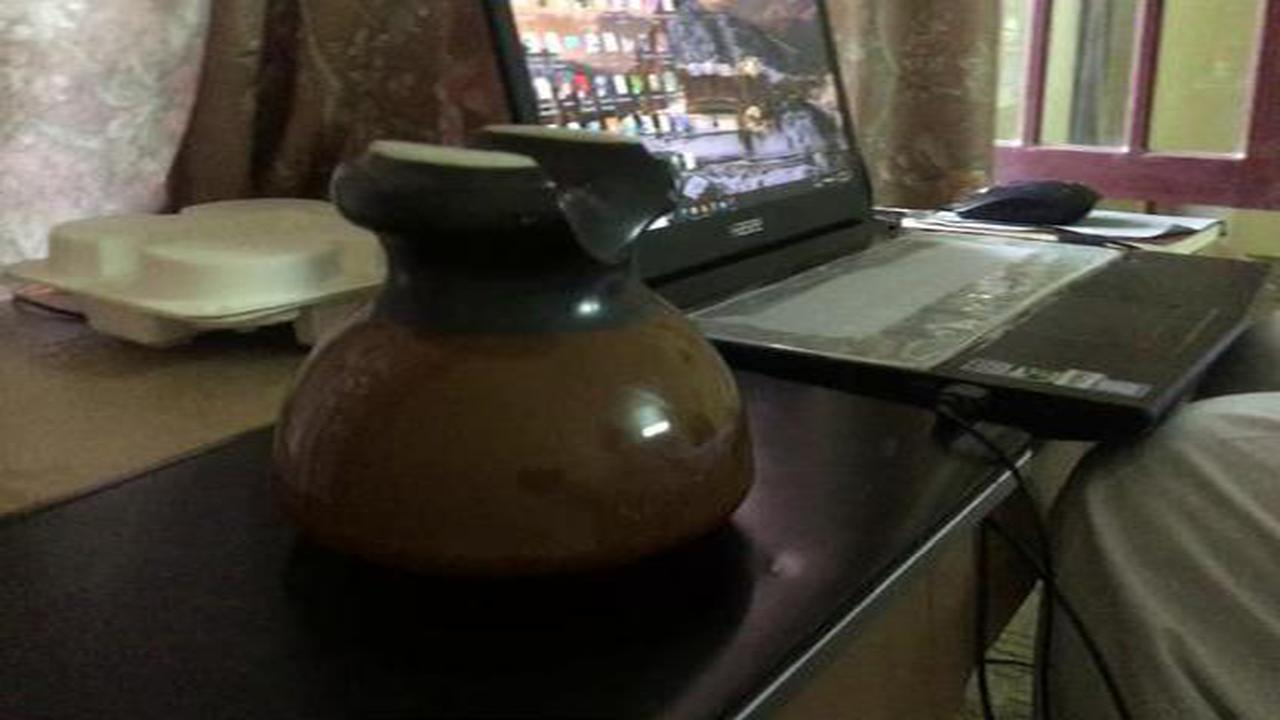insulator_pin: (259, 113, 782, 589)
